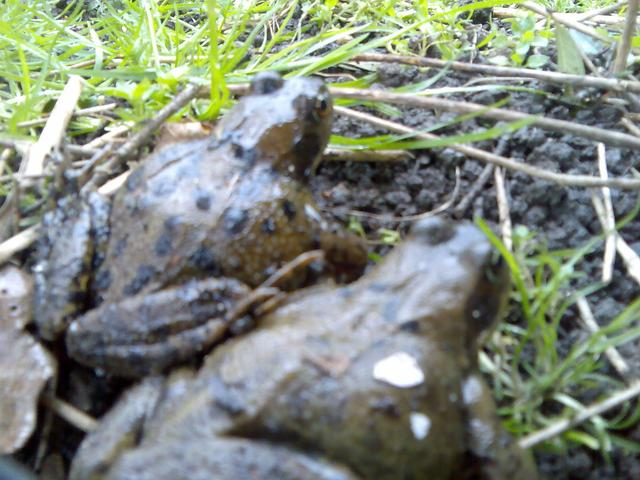frog: (79, 24, 387, 356), (280, 175, 563, 480)
